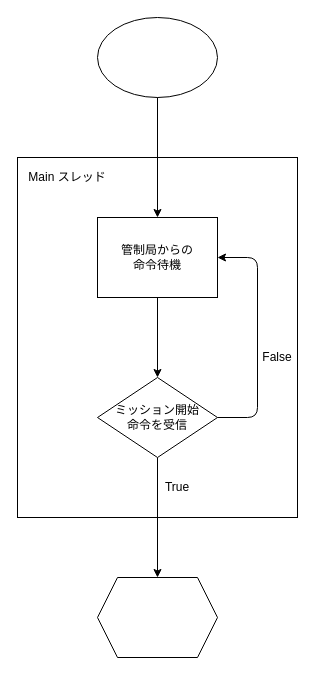
Some shapes in this 315 by 675 pixel diagram are drawn without their labels. Each missing label, with the box of its shape:
FallingNode: (96, 576, 218, 658)
実行: (96, 16, 218, 98)
